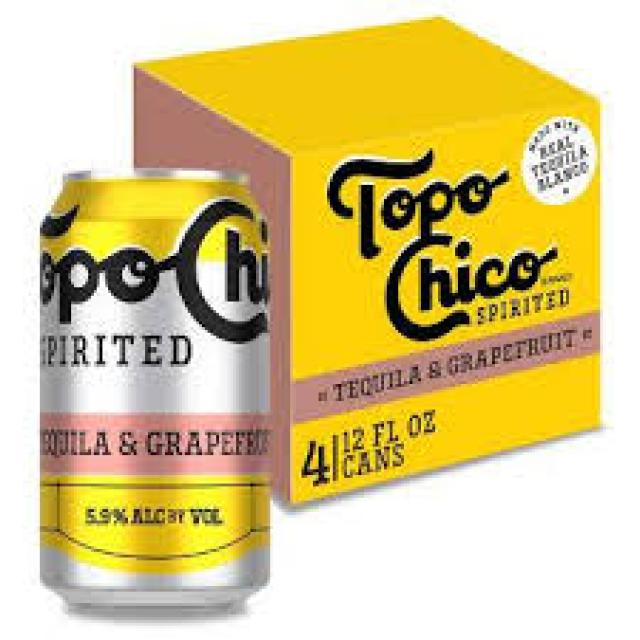Cans: (32, 159, 284, 629)
